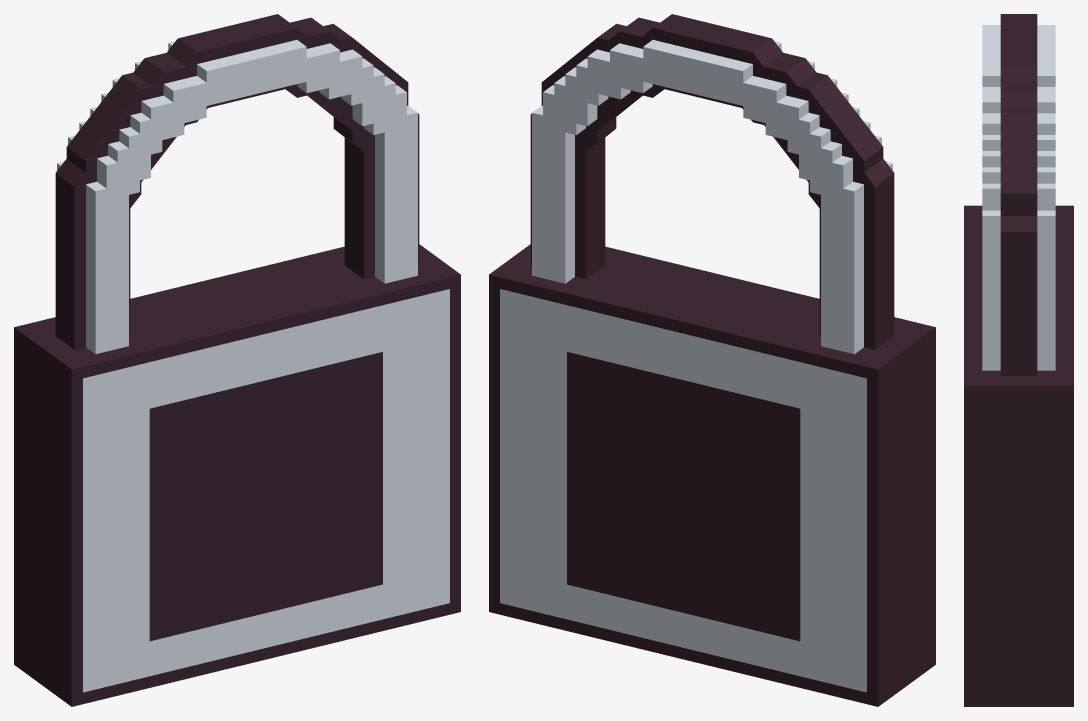
File: Square Padlock.fbx
The picture shows the model from 3 angles, left to right: view 1: azimuth 30°, elevation 25°; view 2: azimuth 150°, elevation 25°; view 3: azimuth 270°, elevation 25°; orthographic projection. The views are drawn at different scales.
Parts seen in each view (by area): view 1: generated; view 2: generated; view 3: generated.
Part boxes in pixels (<box>): generated: <box>14,14,460,706</box>; generated: <box>489,14,935,706</box>; generated: <box>964,14,1073,706</box>.
Size of the model in its own units: 1400 by 2080 by 360.
